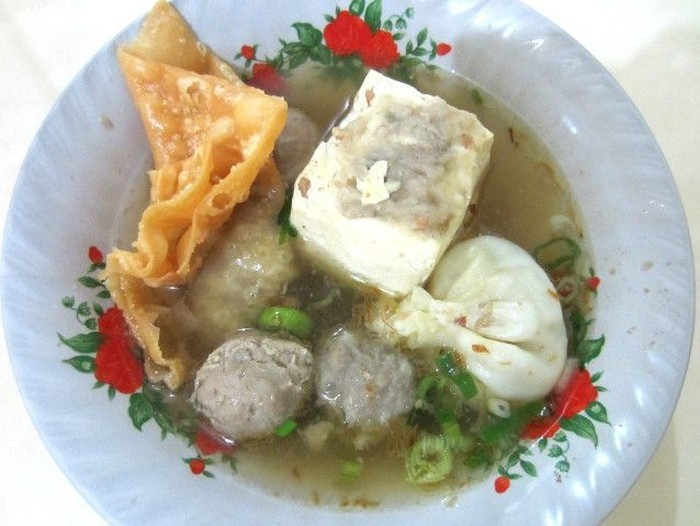bakso_malang: (102, 1, 595, 512)
